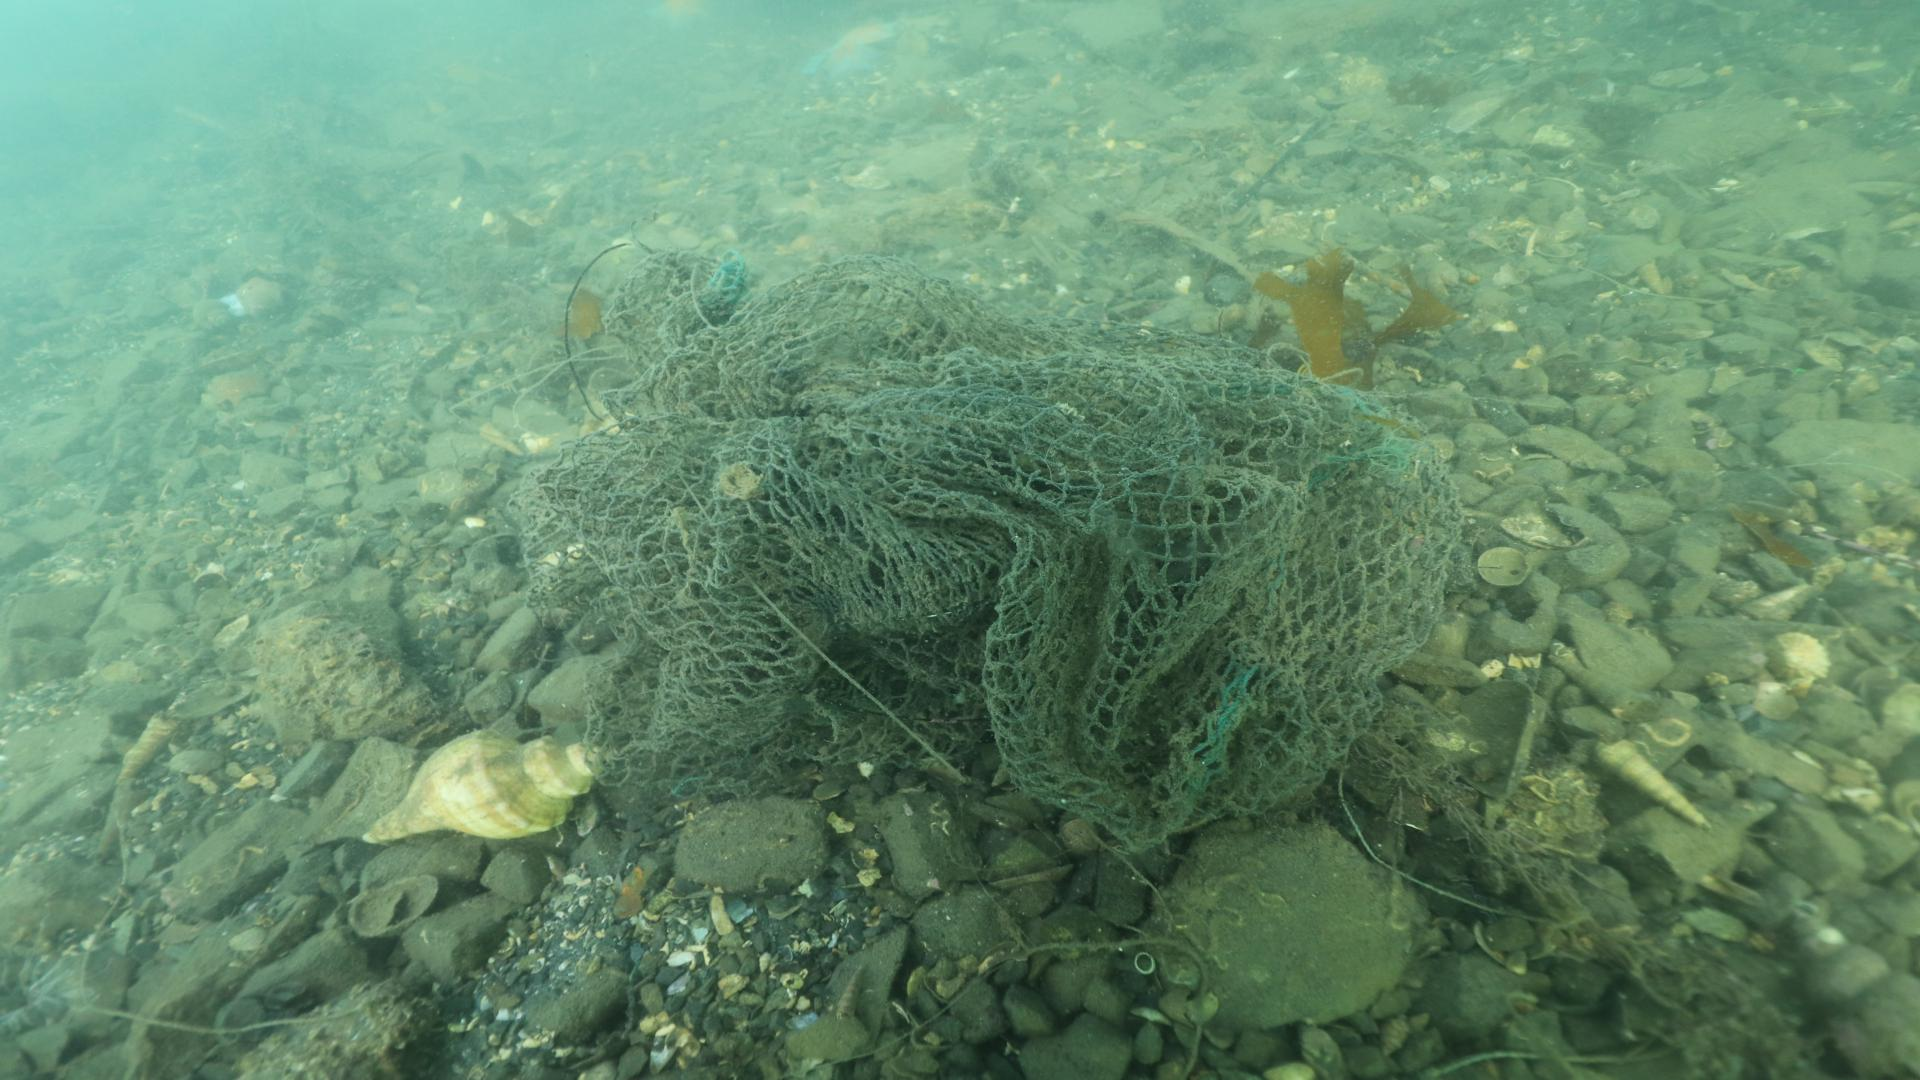fish net: (531, 253, 1464, 843)
